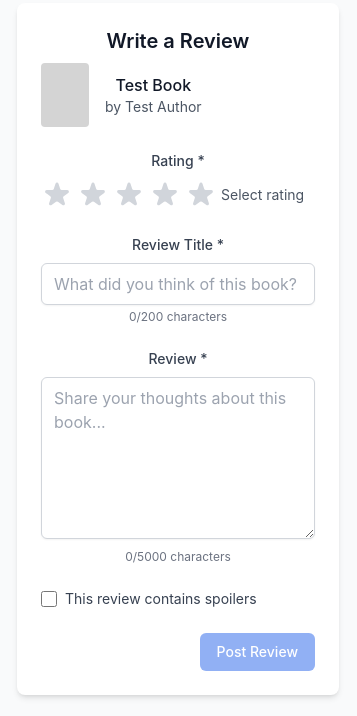
ReviewForm › shows character count for title and content
Check: the text "0/200 characters" is shown, box 129,309 -> 227,324
Check: the text "0/5000 characters" is shown, box 125,549 -> 231,564
In the field labelled "Review Title *": (178, 284) 41,263 -> 315,305, type "Test"
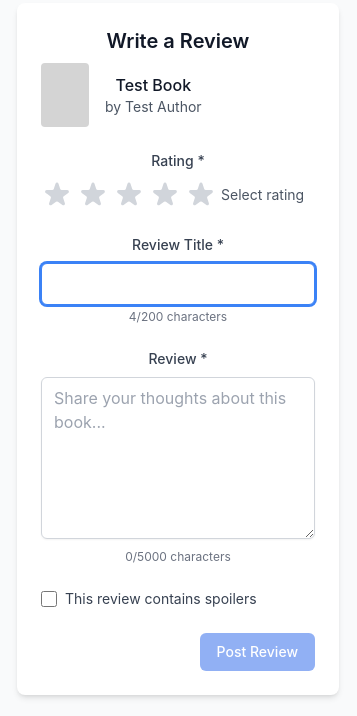
Check: the text "4/200 characters" is shown, box 129,309 -> 227,324
